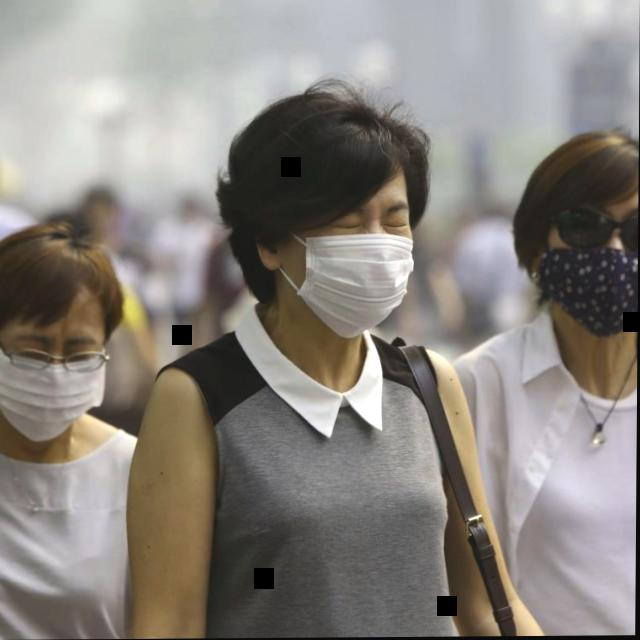Mask: (215, 97, 434, 344), (0, 223, 129, 449), (520, 123, 639, 342)
